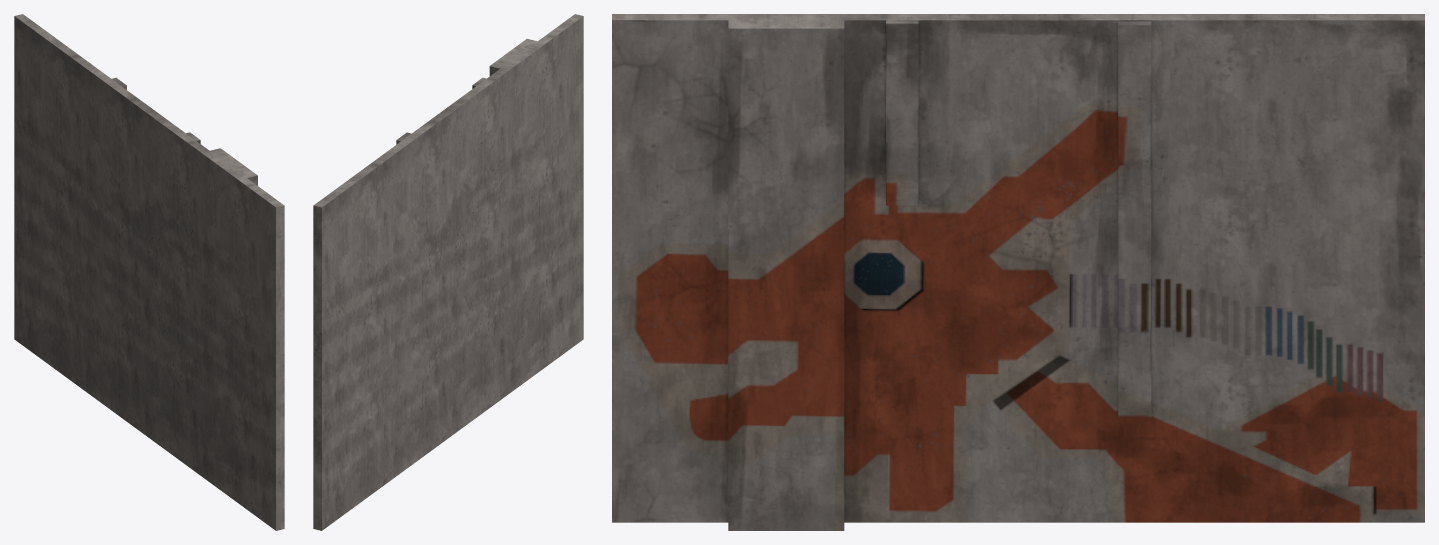
The model's file is mural_wall.obj.
3 renders of one model, left to right at view 1: azimuth 30°, elevation 25°; view 2: azimuth 150°, elevation 25°; view 3: azimuth 270°, elevation 25°, orthographic. The views are drawn at different scales.
Parts seen in each view (by area): view 1: mural_wall; view 2: mural_wall; view 3: mural_wall.
Boxes of the visible parts, left/top/right/bottom form: mural_wall: left=14, top=14, right=284, bottom=530; mural_wall: left=313, top=14, right=583, bottom=530; mural_wall: left=612, top=14, right=1424, bottom=530.
Size of the model in its own units: 34.18 by 550 by 806.
